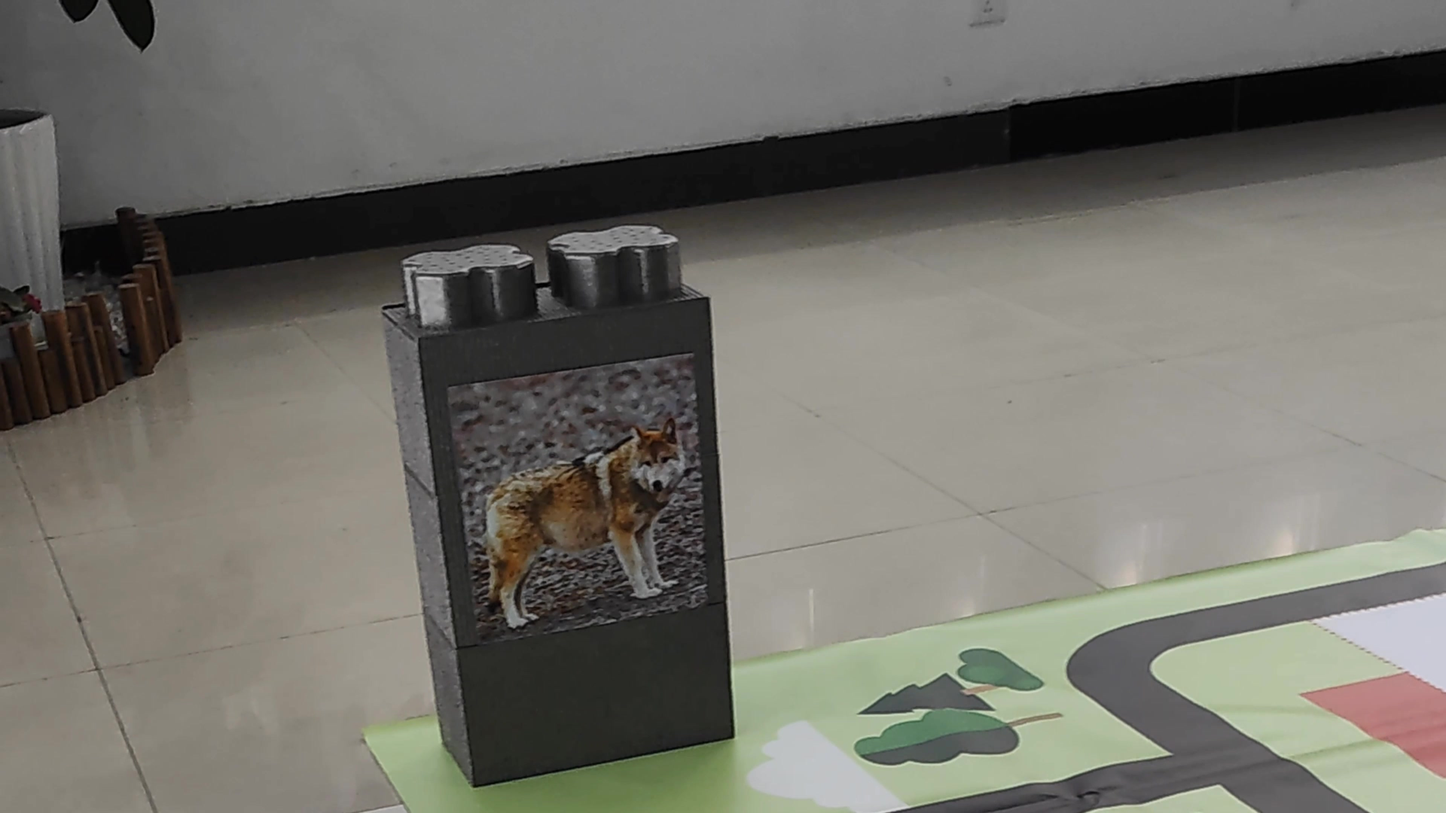wolf: (466, 375, 693, 611)
